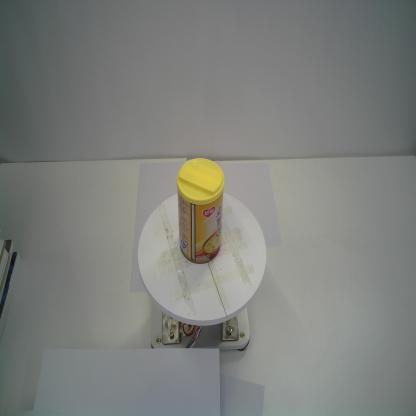Canned Food: (176, 157, 224, 264)
